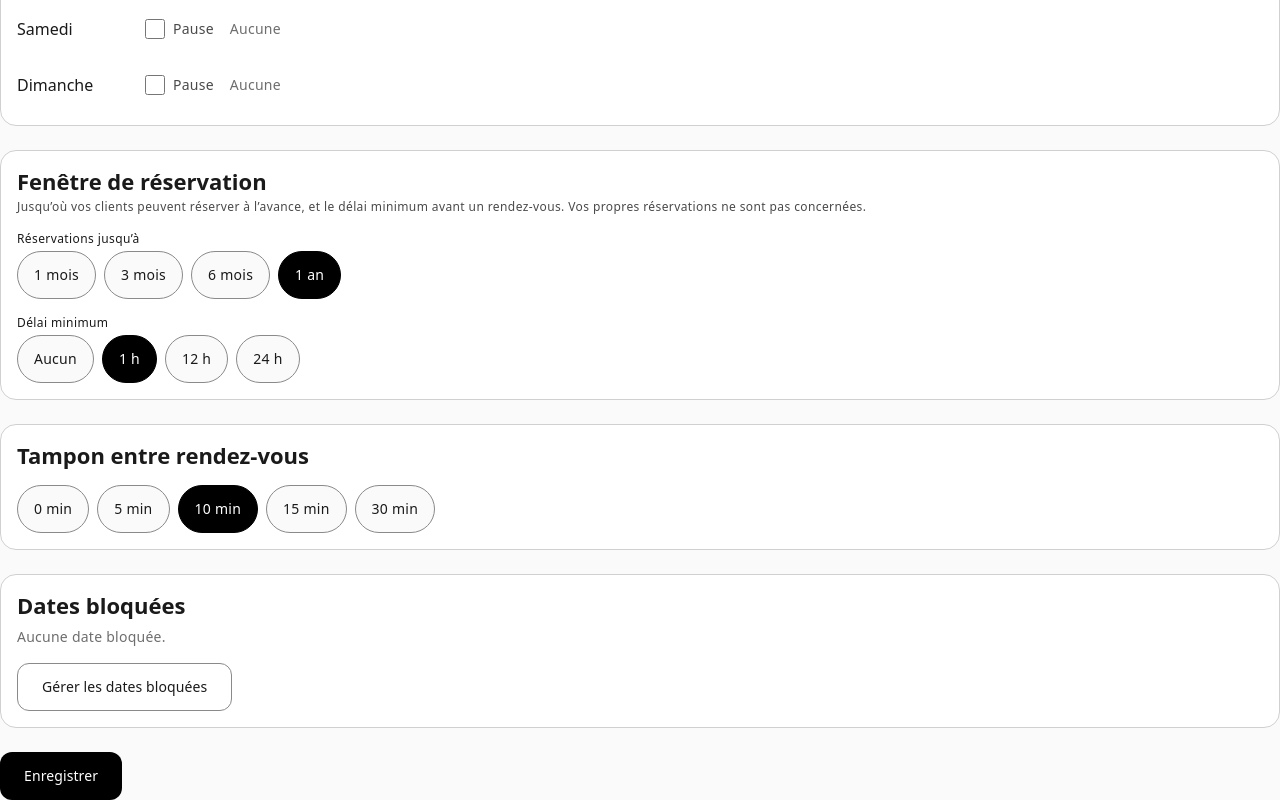
Scenario: §2.2 — blocked dates, the app’s flow › a failed write keeps the dialog open and says why
(page scrolled)
Expected: the heading "Fenêtre de réservation" is shown, [17,166,267,196]
Click the button "Gérer les dates bloquées": (125, 687) [17,663,232,711]
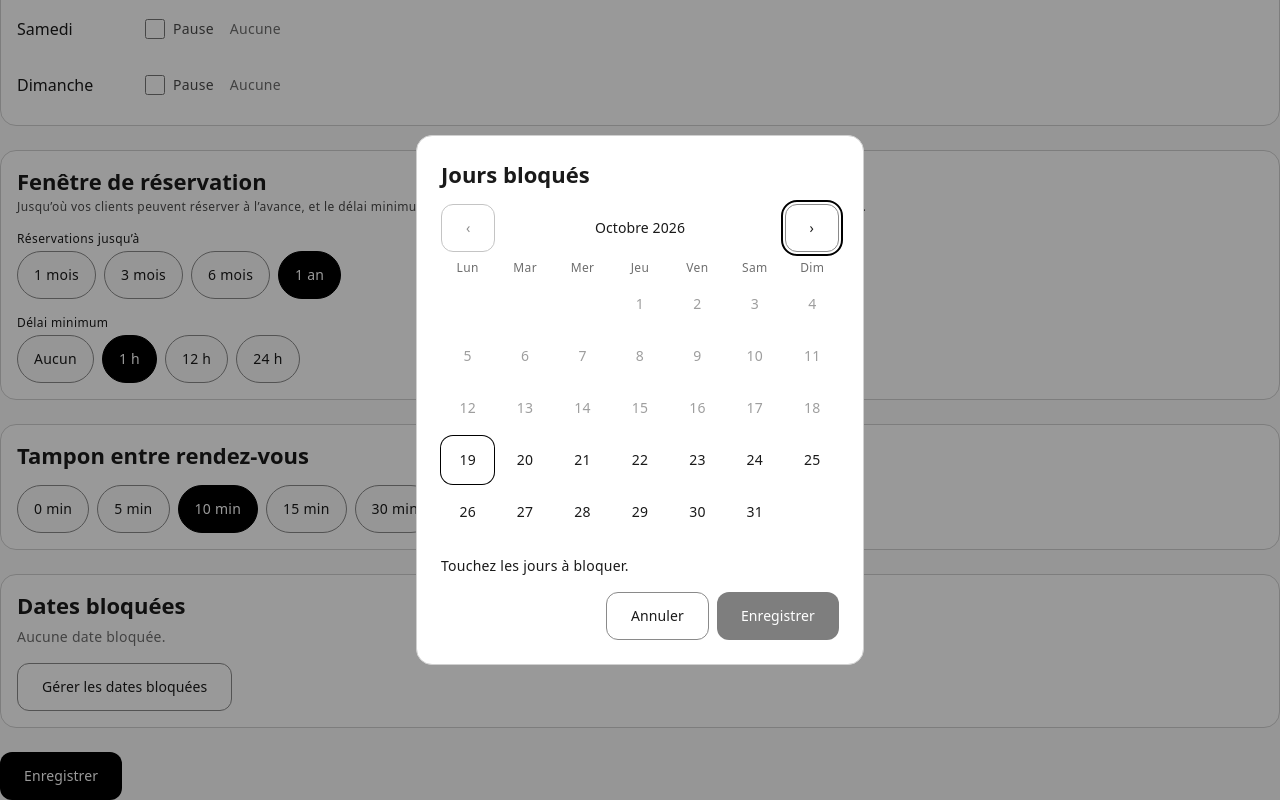
Click the button named "25 octobre 2026": (812, 460) [786,436,839,484]
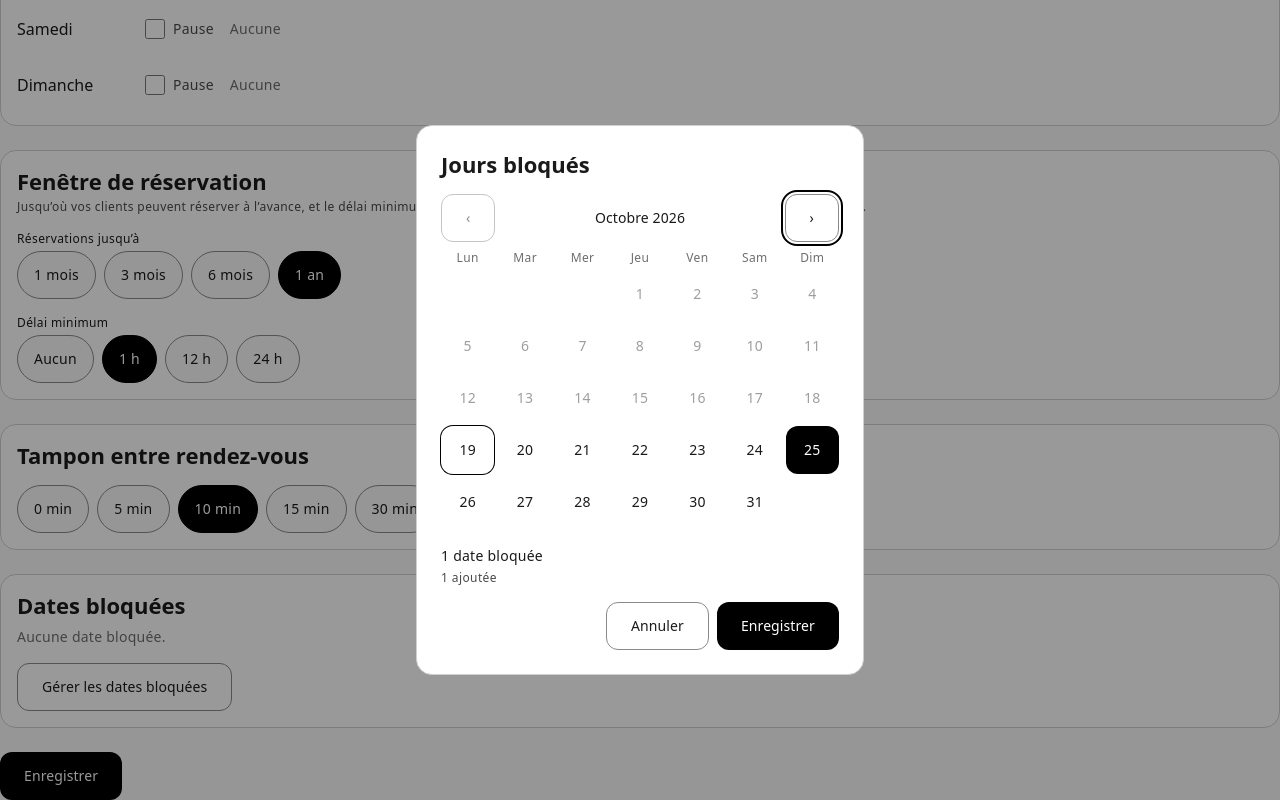
Click the button "Enregistrer": (778, 626) [717,602,839,650]
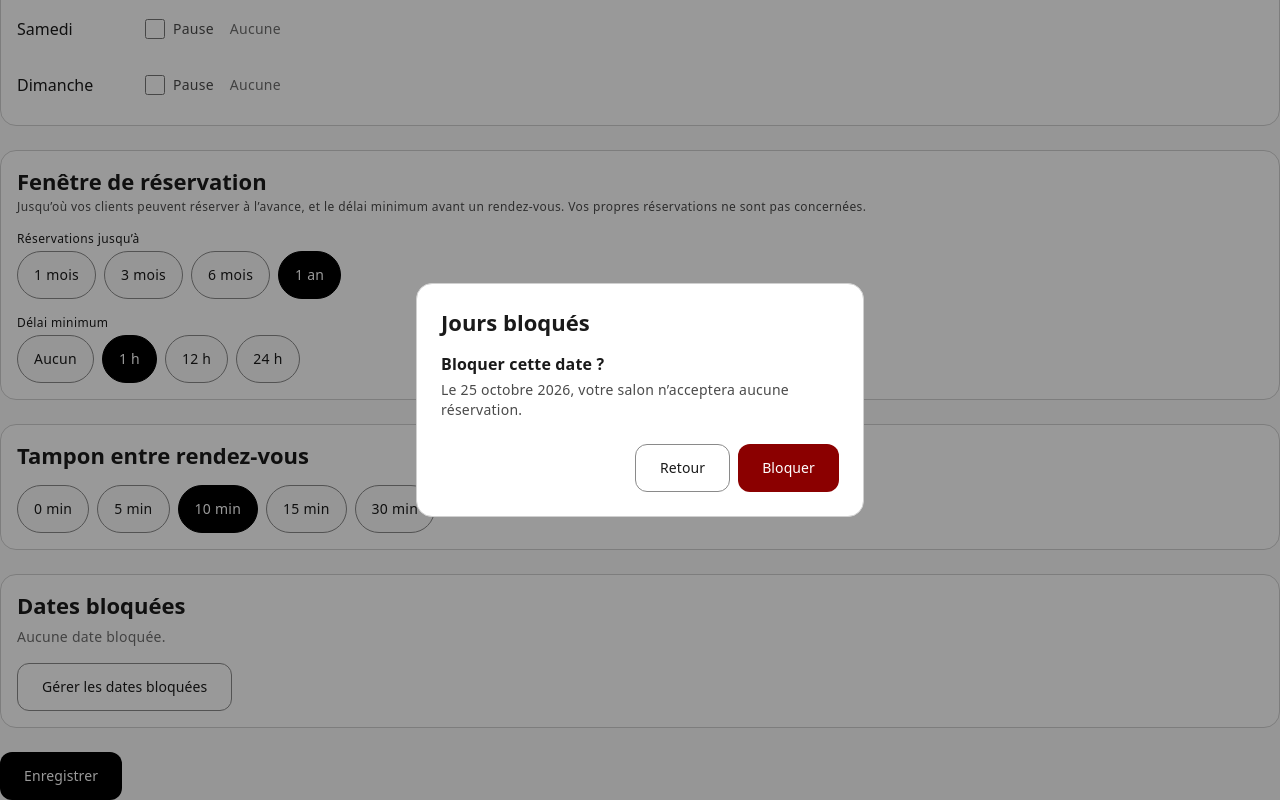
Click the button "Bloquer": (789, 468) [738,444,839,492]
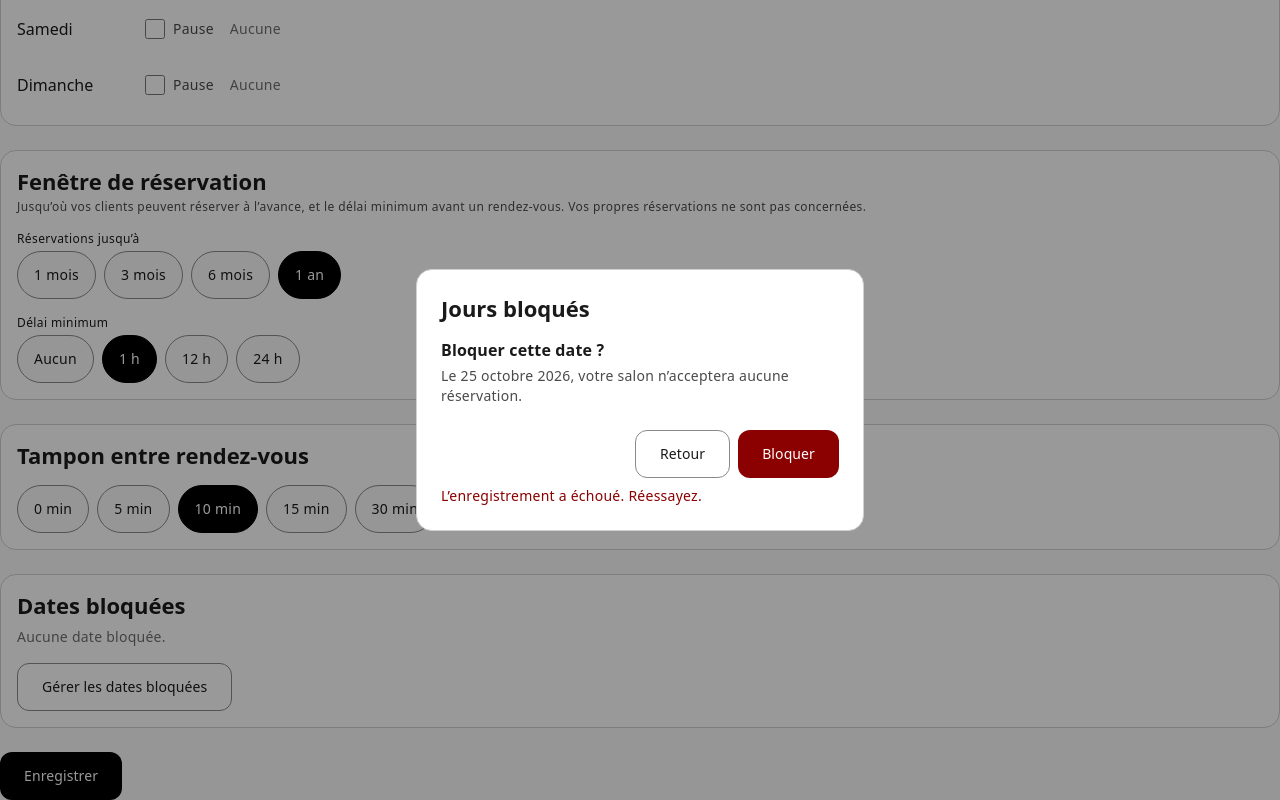
Expected: the text "L’enregistrement a échoué. Réessayez." is shown, [441,486,702,505]
